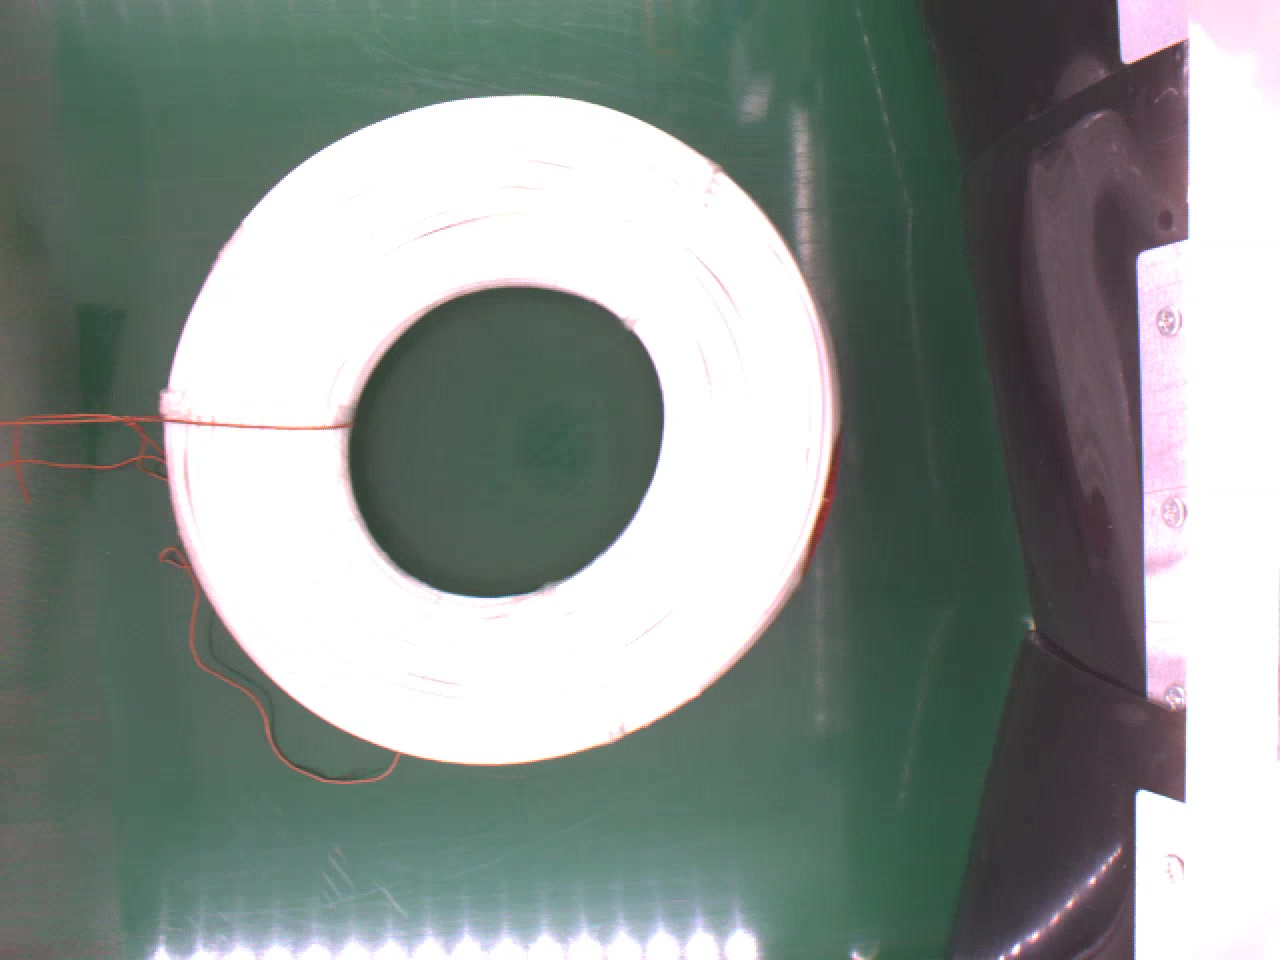white: (166, 93, 847, 758)
